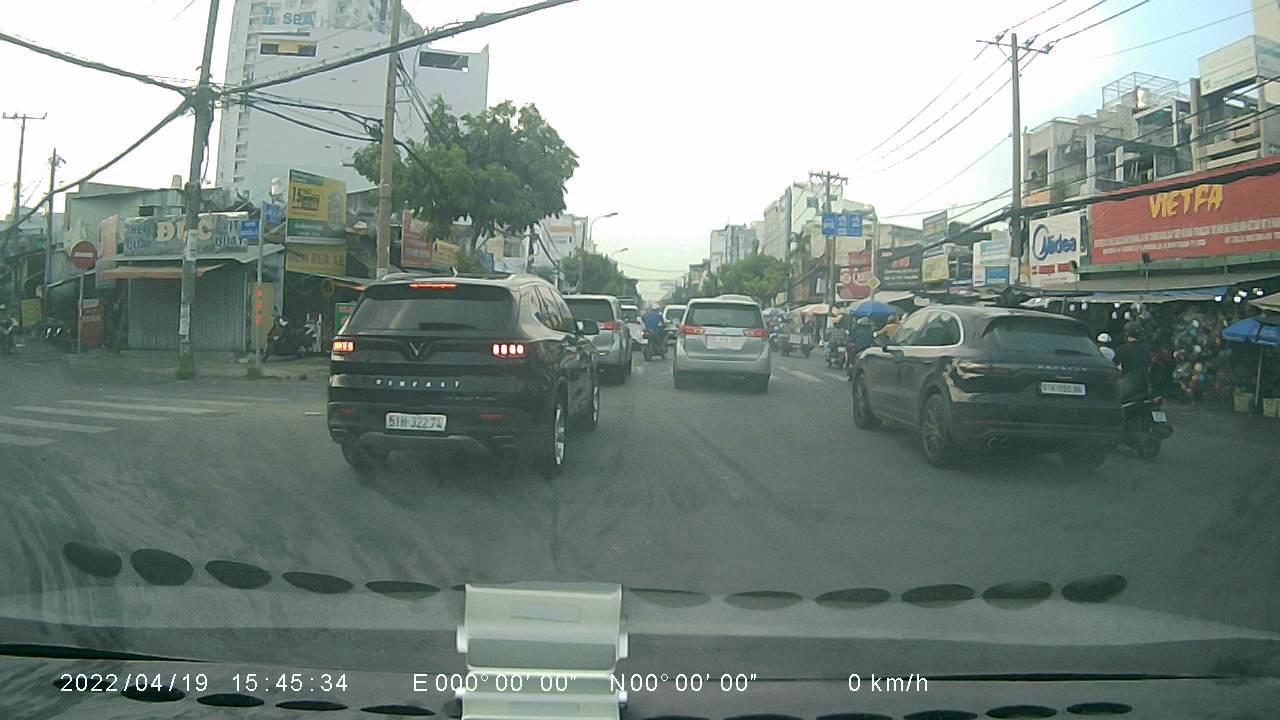Cam di nguoc chieu: (70, 237, 98, 268)
